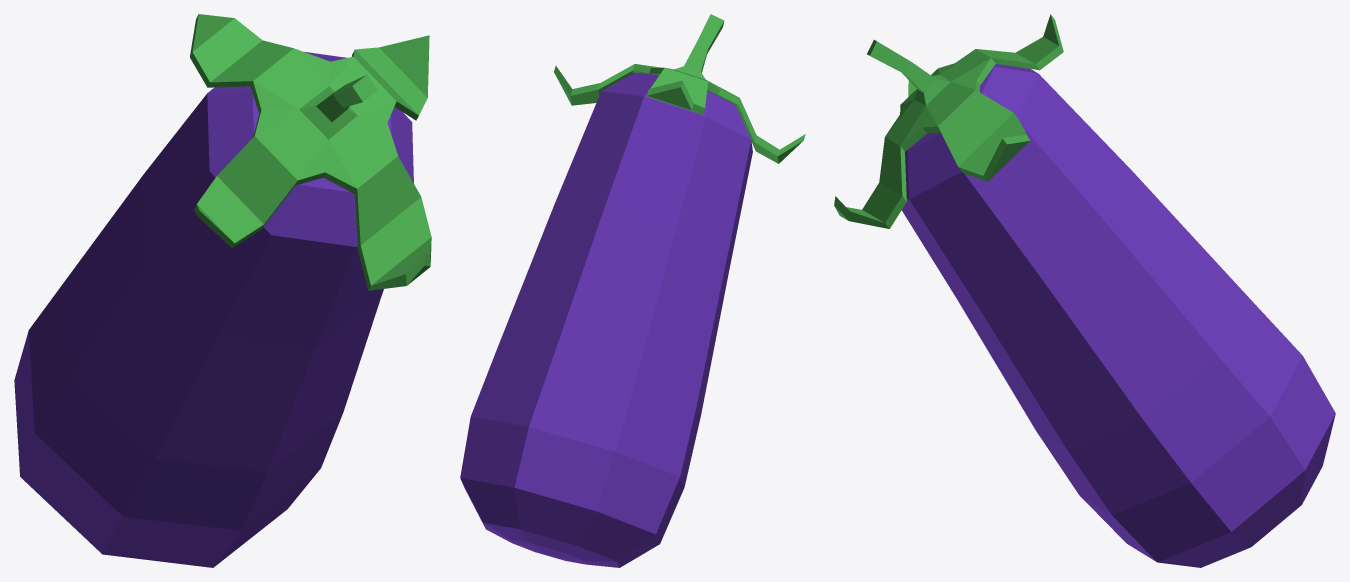
The model's file is Eggplant.glb.
3 views of the same model, side by side, from view 1: azimuth 30°, elevation 25°; view 2: azimuth 150°, elevation 25°; view 3: azimuth 270°, elevation 25° (orthographic). The views are drawn at different scales.
Visible parts, largest first — view 1: Eggplant_Circle.017; view 2: Eggplant_Circle.017; view 3: Eggplant_Circle.017.
Part boxes in pixels (<box>): Eggplant_Circle.017: <box>14,14,431,567</box>; Eggplant_Circle.017: <box>460,14,805,567</box>; Eggplant_Circle.017: <box>834,14,1335,567</box>.
Bounding box in the file's own units: 5.52 × 11.37 × 10.01.
